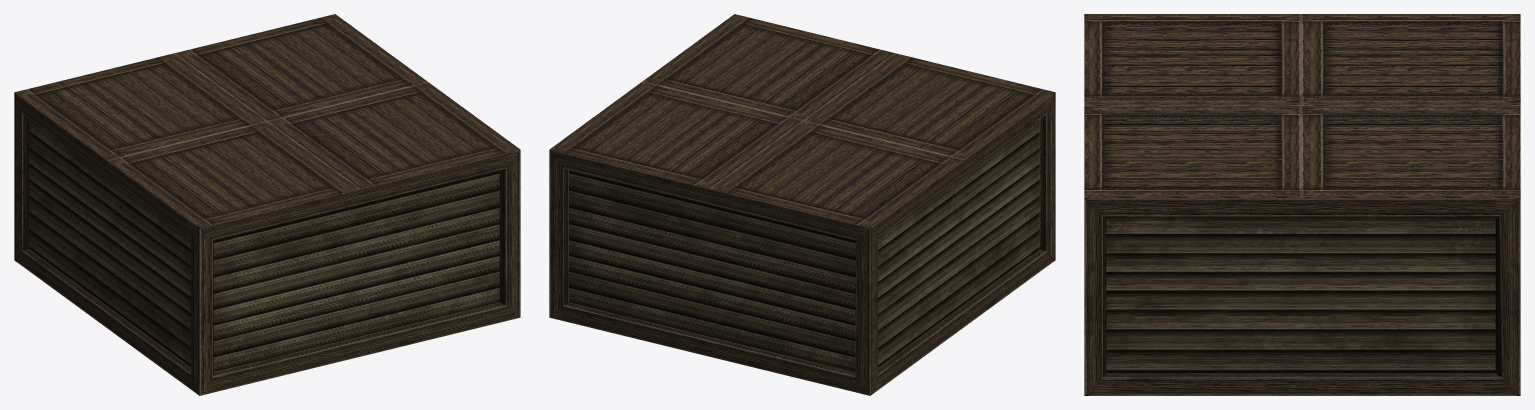
File: House_8X8_05c.fbx
The picture shows the model from 3 angles, left to right: view 1: azimuth 30°, elevation 25°; view 2: azimuth 150°, elevation 25°; view 3: azimuth 270°, elevation 25°; orthographic projection. The views are drawn at different scales.
Visible parts, largest first — view 1: House_8X8_05c; view 2: House_8X8_05c; view 3: House_8X8_05c.
Part boxes in pixels (box(x1,y1,x2,y2)): House_8X8_05c: box(14, 14, 520, 395); House_8X8_05c: box(549, 14, 1055, 395); House_8X8_05c: box(1084, 14, 1520, 395).
Bounding box in the file's own units: 8 × 4 × 8.
